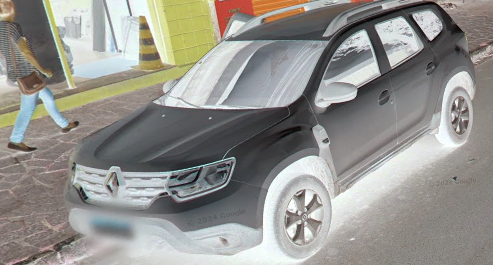car: (69, 3, 477, 257)
